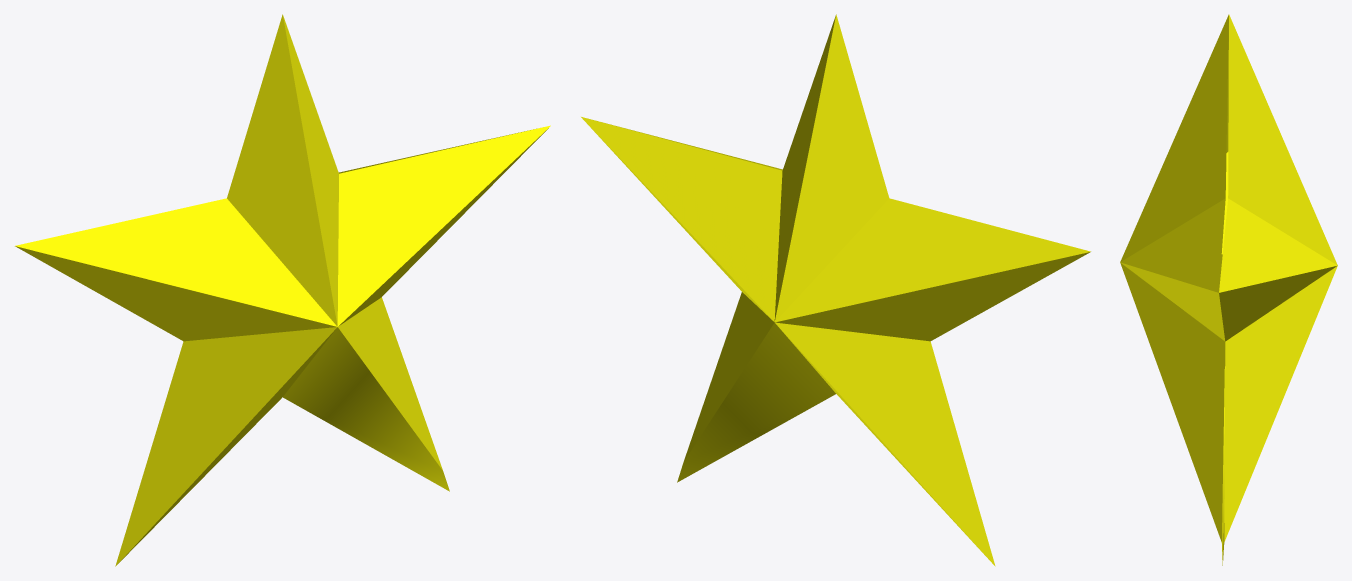
File: deathParticle.obj
3 renders of one model, left to right at view 1: azimuth 30°, elevation 25°; view 2: azimuth 150°, elevation 25°; view 3: azimuth 270°, elevation 25°, orthographic. The views are drawn at different scales.
Visible parts, largest first — view 1: 立方体; view 2: 立方体; view 3: 立方体.
Boxes of the visible parts, bbox=[...] form: 立方体: bbox=[15, 14, 550, 566]; 立方体: bbox=[581, 14, 1090, 566]; 立方体: bbox=[1120, 14, 1337, 565].
Bounding box in the file's own units: 1.6 × 1.5 × 0.6185.
Materials: 1 (1 with a texture image).
